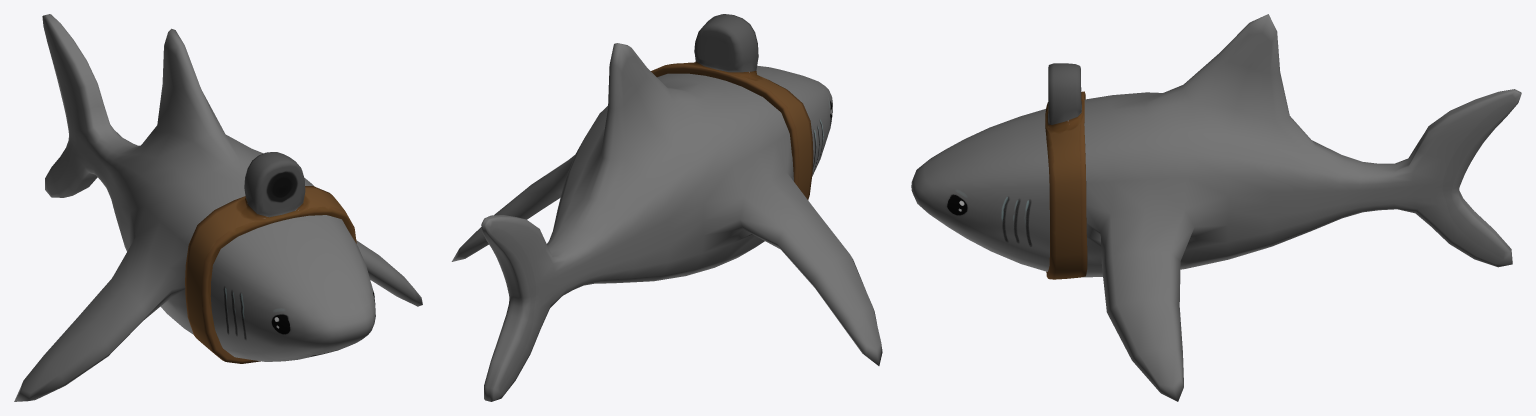
File: shark.glb
3 renders of one model, left to right at view 1: azimuth 30°, elevation 25°; view 2: azimuth 150°, elevation 25°; view 3: azimuth 270°, elevation 25°, orthographic. The views are drawn at different scales.
Parts seen in each view (by area): view 1: Finished; view 2: Finished; view 3: Finished.
Boxes of the visible parts, box(x1,y1,x2,y2) form: Finished: box(14, 14, 422, 401); Finished: box(451, 14, 882, 401); Finished: box(911, 14, 1521, 401).
Bounding box in the file's own units: 9.89 × 6.77 × 12.94.
Materials: 1 (1 with a texture image).
